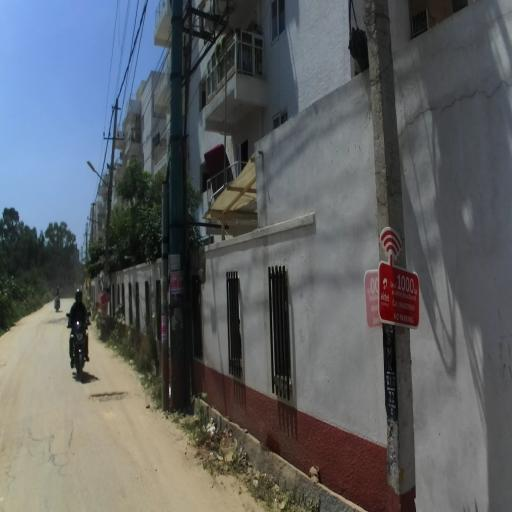street_light_0: (86, 160, 112, 205)
